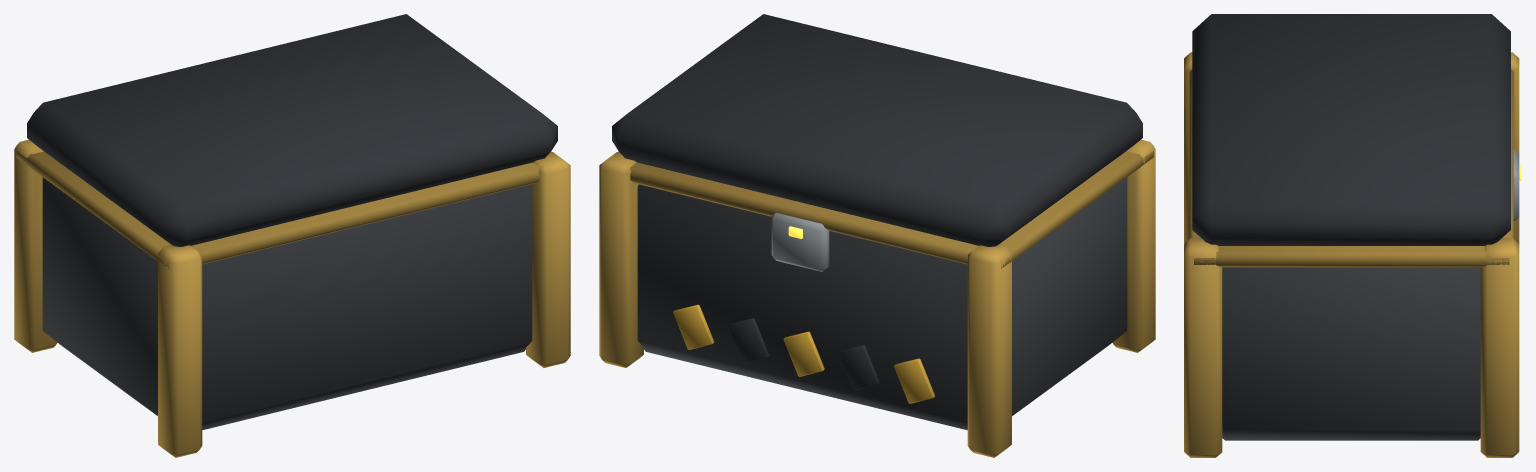
Rendered from chest_2.glb.
3 views of the same model, side by side, from view 1: azimuth 30°, elevation 25°; view 2: azimuth 150°, elevation 25°; view 3: azimuth 270°, elevation 25° (orthographic). The views are drawn at different scales.
Visible parts, largest first — view 1: chest_2; view 2: chest_2; view 3: chest_2.
Part boxes in pixels (x1,y1,x2,y2): chest_2: [14, 14, 570, 457]; chest_2: [599, 14, 1155, 457]; chest_2: [1184, 14, 1521, 457].
Bounding box in the file's own units: 0.87 × 0.51 × 0.615.
1 material, 1 textured.
